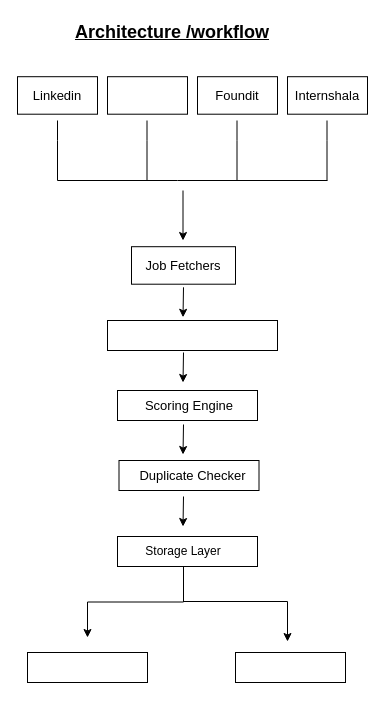
The diagram is 385 pixels wide and 714 high, and some of its shapes have lost their labels. The shapes that lost their labels are listed below. From the top down, each one's centre as x and y in pixels, then its label:
At pixel 147 95: "Naukri".
At pixel 192 335: "Filtering Engine".
At pixel 87 667: "Excel Database".
At pixel 290 667: "Telegram Alerts".
